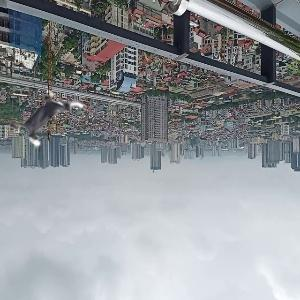drone: (1, 77, 81, 157)
